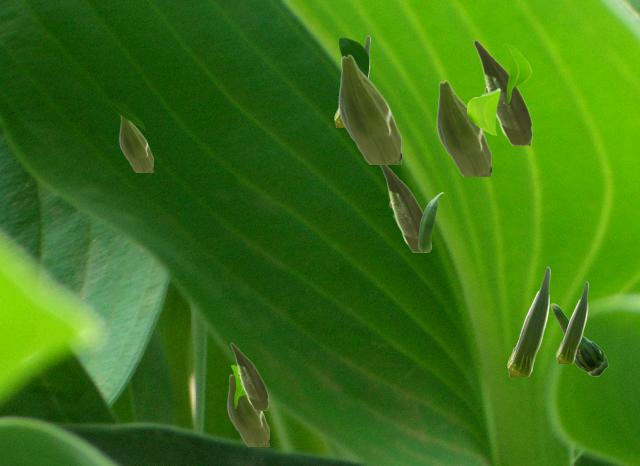okra: (338, 54, 400, 163), (473, 39, 531, 144), (436, 80, 490, 175), (507, 266, 549, 375), (379, 164, 429, 251), (550, 303, 607, 375), (334, 35, 369, 126), (227, 374, 268, 445), (556, 281, 587, 362), (230, 342, 267, 409), (119, 117, 152, 171), (418, 192, 442, 250)
